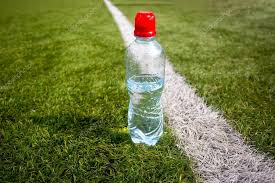plastic_bottle: (124, 11, 166, 144)
